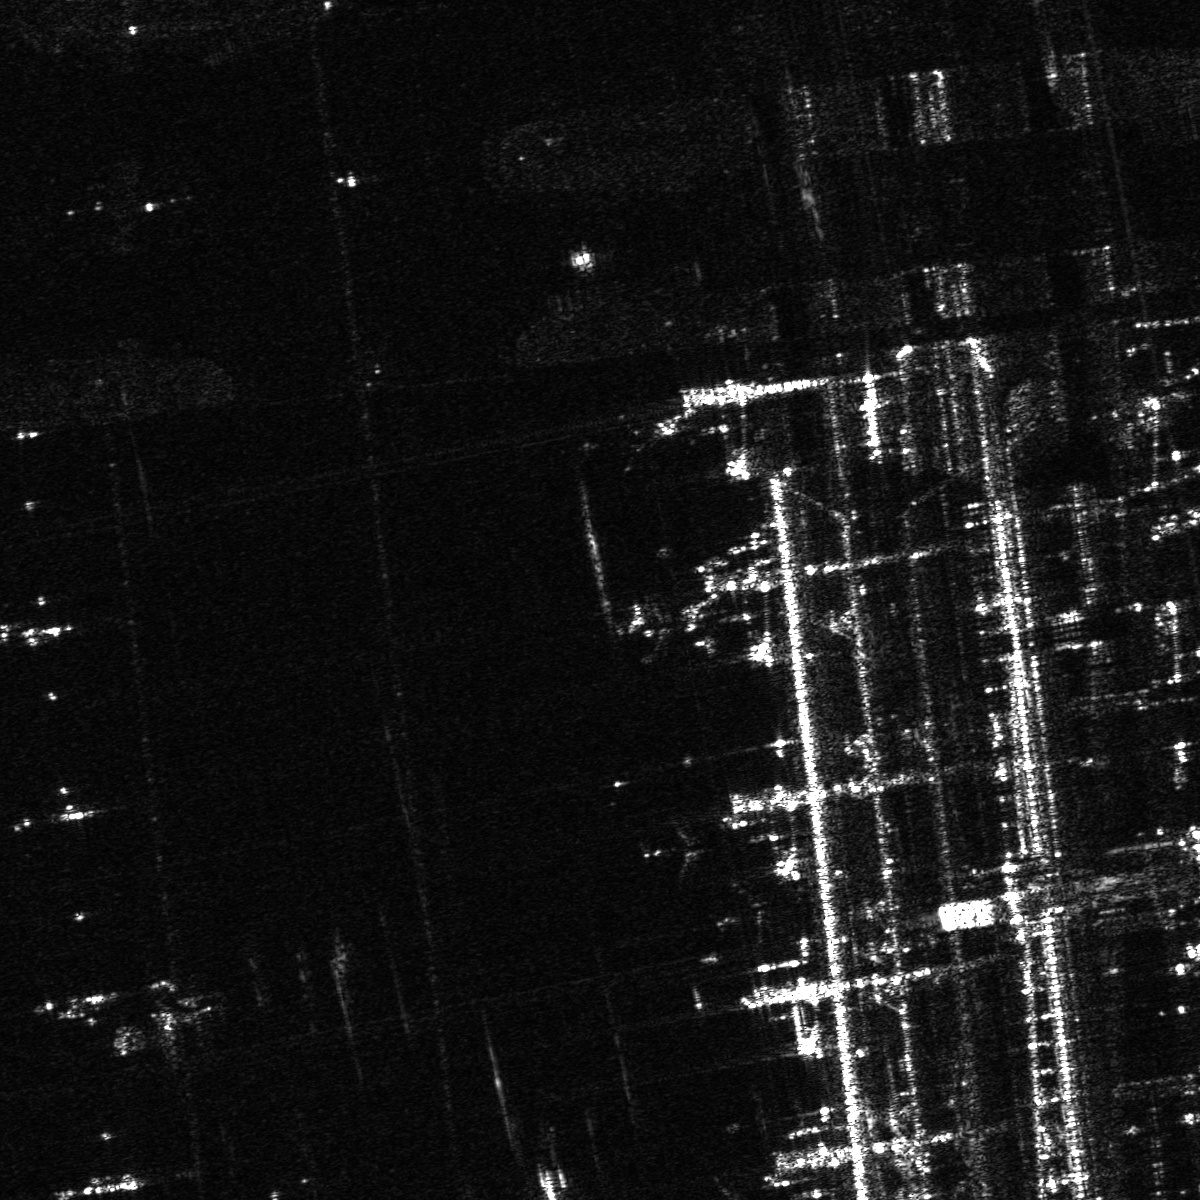Boeing737: (1153, 349, 1199, 409)
Boeing787: (643, 816, 723, 884), (714, 884, 784, 941)
